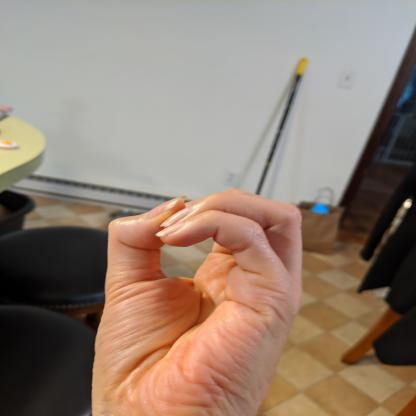O: (82, 186, 308, 415)
